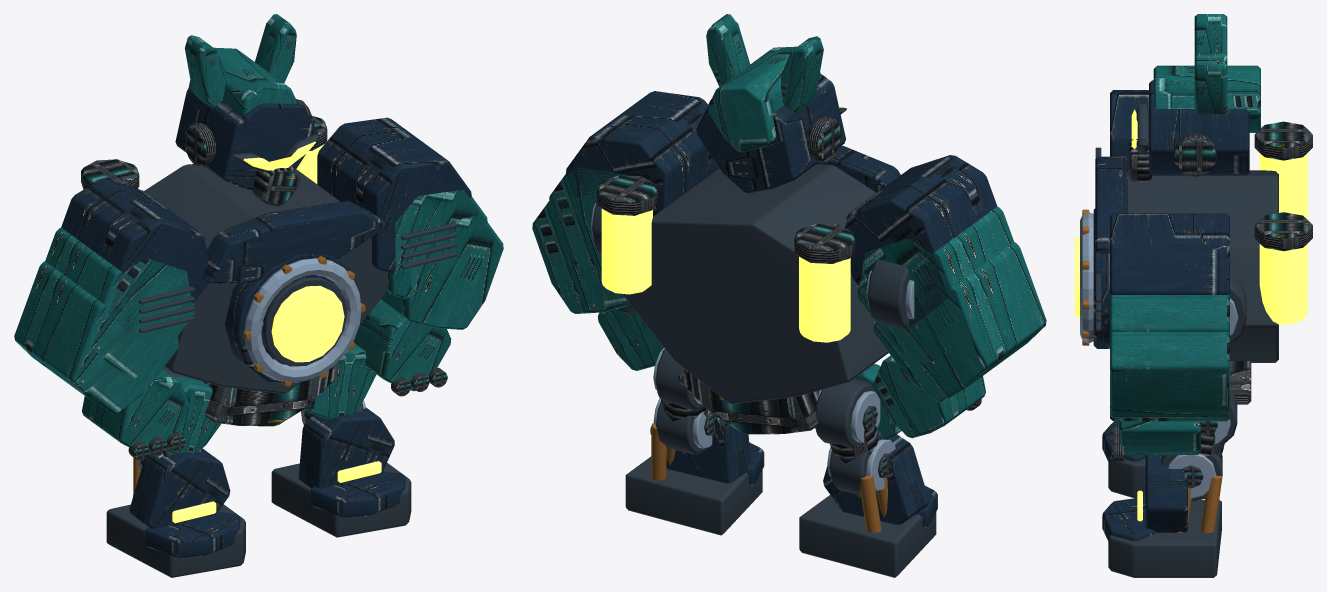
The model's file is heavy.glb.
3 views of the same model, side by side, from view 1: azimuth 30°, elevation 25°; view 2: azimuth 150°, elevation 25°; view 3: azimuth 270°, elevation 25° (orthographic). The views are drawn at different scales.
Visible parts, largest first — view 1: Navy crown, Upper chest plating, Reinforced heavy torso, Face guard, Greave armor, Greave armor.001, Reactor concentric ring, Reactor lens, Servo housing.001, Servo housing.004, Tapered thigh shield.001, Tapered thigh shield; view 2: Navy crown, Reinforced heavy torso, Upper chest plating, Servo housing.001, Face guard, Servo housing.004, Biome pressure capsule, Greave armor, Greave armor.001, Bearing ring.002, Hub.002, Calf piston (+4 smaller); view 3: Navy crown, Upper chest plating, Reinforced heavy torso, Face guard, Servo housing.004, Biome pressure capsule, Greave armor.001, Reactor concentric ring, Servo housing.001, Bearing ring.008, Hub.008, Calf piston.002 (+3 smaller).
Boxes of the visible parts, left/top/right/bottom form: Navy crown: left=14, top=14, right=503, bottom=454; Upper chest plating: left=61, top=86, right=471, bottom=382; Reinforced heavy torso: left=139, top=133, right=457, bottom=393; Face guard: left=81, top=99, right=447, bottom=460; Greave armor: left=129, top=448, right=240, bottom=558; Greave armor.001: left=298, top=407, right=405, bottom=517; Reactor concentric ring: left=244, top=258, right=361, bottom=382; Reactor lens: left=243, top=141, right=344, bottom=362; Servo housing.001: left=106, top=367, right=245, bottom=577; Servo housing.004: left=271, top=403, right=411, bottom=537; Tapered thigh shield.001: left=305, top=343, right=376, bottom=419; Tapered thigh shield: left=166, top=377, right=220, bottom=454; Navy crown: left=532, top=14, right=1046, bottom=438; Reinforced heavy torso: left=592, top=107, right=909, bottom=403; Upper chest plating: left=566, top=74, right=997, bottom=326; Servo housing.001: left=799, top=378, right=936, bottom=577; Face guard: left=596, top=99, right=981, bottom=434; Servo housing.004: left=625, top=349, right=762, bottom=535; Biome pressure capsule: left=601, top=209, right=850, bottom=342; Greave armor: left=823, top=434, right=937, bottom=527; Greave armor.001: left=650, top=417, right=764, bottom=485; Bearing ring.002: left=815, top=390, right=895, bottom=490; Hub.002: left=830, top=406, right=891, bottom=477; Calf piston: left=860, top=475, right=887, bottom=532; Navy crown: left=1110, top=14, right=1260, bottom=454; Upper chest plating: left=1093, top=80, right=1249, bottom=348; Reinforced heavy torso: left=1095, top=104, right=1278, bottom=362; Face guard: left=1111, top=121, right=1312, bottom=461; Servo housing.004: left=1108, top=390, right=1237, bottom=577; Biome pressure capsule: left=1259, top=153, right=1307, bottom=324; Greave armor.001: left=1102, top=455, right=1187, bottom=541; Reactor concentric ring: left=1080, top=212, right=1238, bottom=343; Servo housing.001: left=1108, top=455, right=1145, bottom=498; Bearing ring.008: left=1168, top=419, right=1230, bottom=498; Hub.008: left=1181, top=421, right=1224, bottom=488; Calf piston.002: left=1176, top=475, right=1222, bottom=533.
Bounding box in the file's own units: 1.52 × 1.64 × 0.7315.
8 materials, 3 textured.
